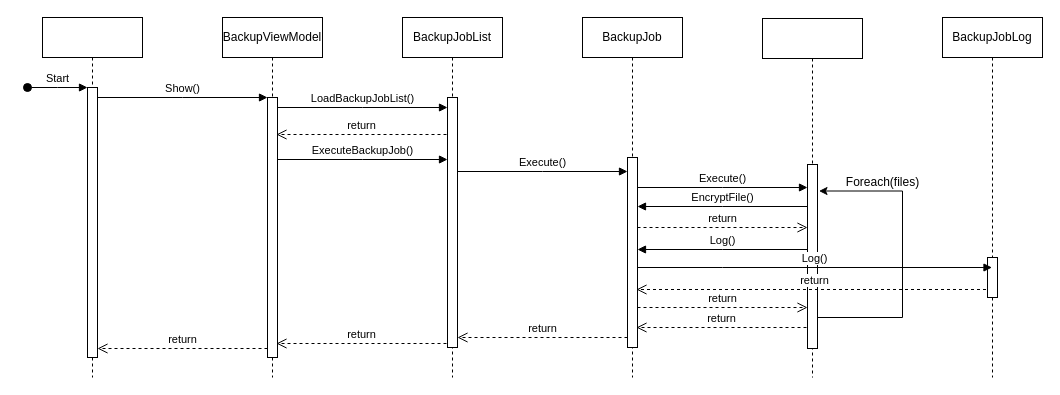
Image size: 1060x395. Some labels were removed from this diagram. Here are the shapes that lost their labels. From the top down, the box of each, then its label:
(42, 16, 142, 378): Program
(762, 18, 862, 378): BackupStrategy
